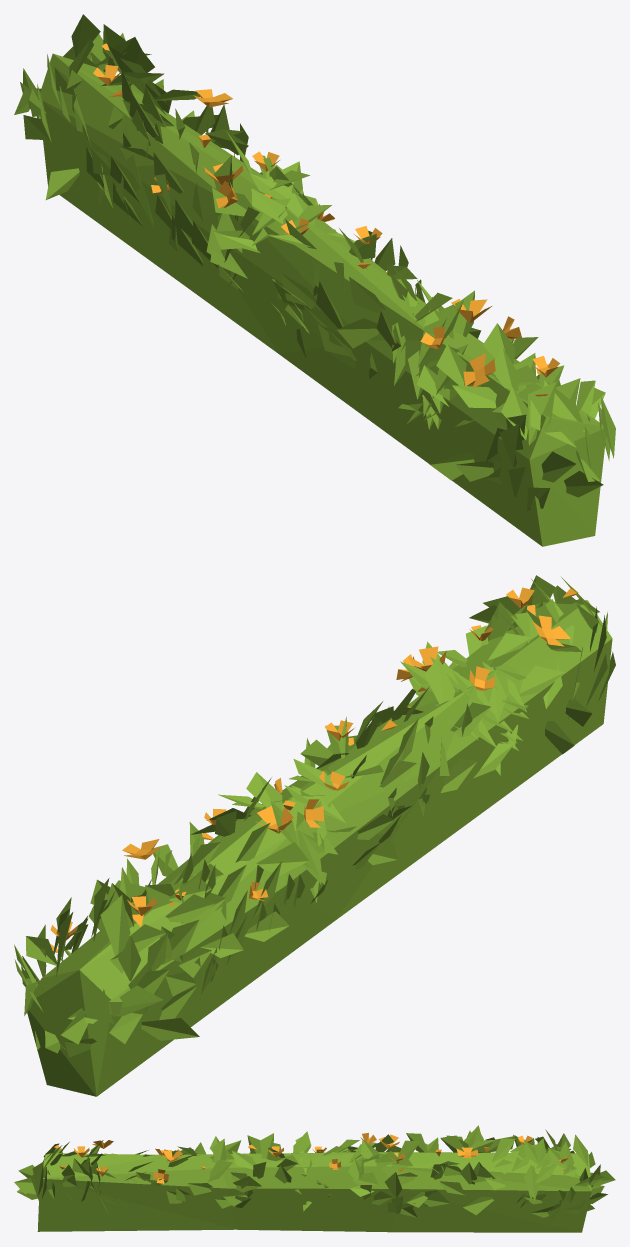
Rendered from SM_Fence_Hedge_City_Short_Flower_3m.fbx.
The picture shows the model from 3 angles, top to bottom: view 1: azimuth 30°, elevation 25°; view 2: azimuth 150°, elevation 25°; view 3: azimuth 270°, elevation 25°; orthographic projection. The views are drawn at different scales.
Parts seen in each view (by area): view 1: SM_Fence_Hedge_City_Short_Flower_3m; view 2: SM_Fence_Hedge_City_Short_Flower_3m; view 3: SM_Fence_Hedge_City_Short_Flower_3m.
Boxes of the visible parts, x1,y1,x2,y2 form: SM_Fence_Hedge_City_Short_Flower_3m: (14,14,615,546); SM_Fence_Hedge_City_Short_Flower_3m: (14,575,615,1096); SM_Fence_Hedge_City_Short_Flower_3m: (14,1125,615,1232).
Size of the model in its own units: 0.5382 by 0.5823 by 3.39.
